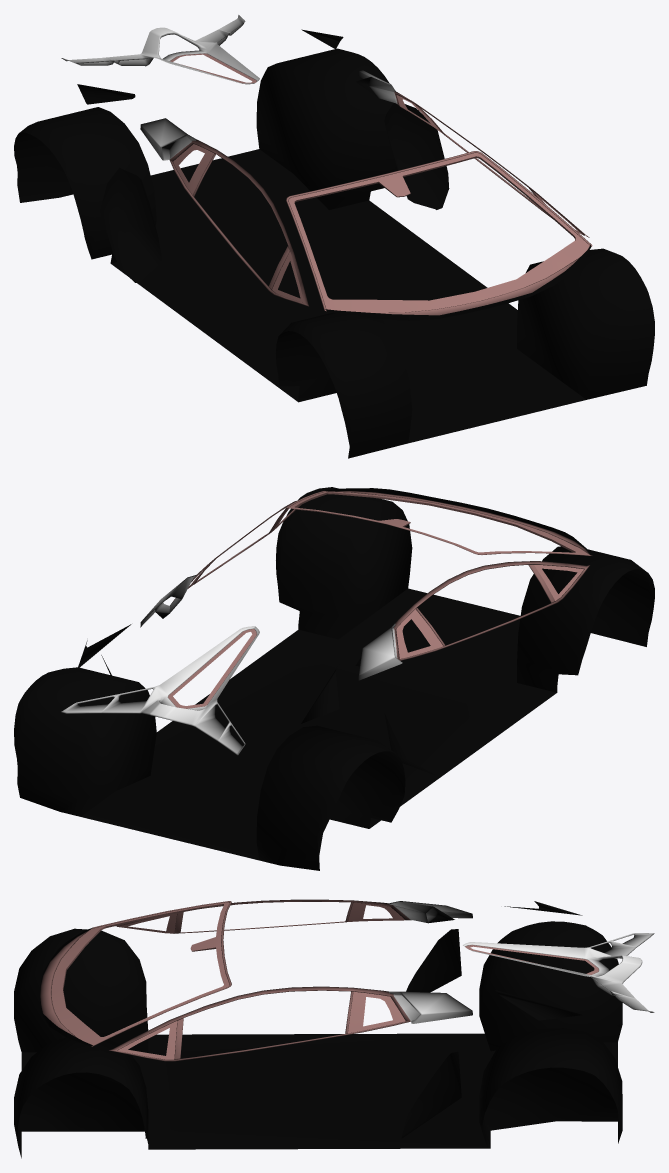
The model's file is Aventador_Chassis_Trim.fbx.
3 views of the same model, one above another, from view 1: azimuth 30°, elevation 25°; view 2: azimuth 150°, elevation 25°; view 3: azimuth 270°, elevation 25° (orthographic). The views are drawn at different scales.
Parts seen in each view (by area): view 1: Aventador_Chassis_Trim; view 2: Aventador_Chassis_Trim; view 3: Aventador_Chassis_Trim.
Boxes of the visible parts, x1,y1,x2,y2 form: Aventador_Chassis_Trim: [14, 15, 654, 458]; Aventador_Chassis_Trim: [14, 487, 654, 870]; Aventador_Chassis_Trim: [14, 899, 654, 1158].
Bounding box in the file's own units: 203 × 96.51 × 368.
